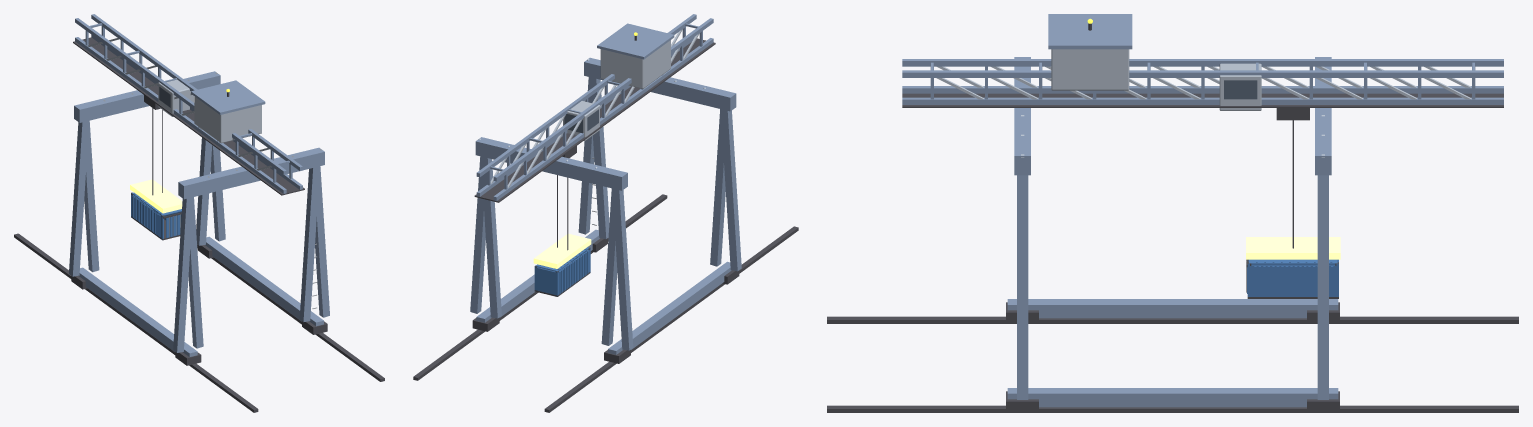
Rendered from bt-d2-crane.glb.
The picture shows the model from 3 angles, left to right: view 1: azimuth 30°, elevation 25°; view 2: azimuth 150°, elevation 25°; view 3: azimuth 270°, elevation 25°; orthographic projection. The views are drawn at different scales.
Visible parts, largest first — view 1: bt-d2-crane_portal1, bt-d2-crane_walkway, bt-d2-crane_house, bt-d2-crane_sill-1, bt-d2-crane_sill1, bt-d2-crane_portal-1, bt-d2-crane_legA-11, bt-d2-crane_legA-1-1, bt-d2-crane_legA11, bt-d2-crane_houseroof, bt-d2-crane_legB11, bt-d2-crane_legB-1-1 (+11 smaller); view 2: bt-d2-crane_portal-1, bt-d2-crane_house, bt-d2-crane_sill-1, bt-d2-crane_walkway, bt-d2-crane_legA-1-1, bt-d2-crane_legA-11, bt-d2-crane_portal1, bt-d2-crane_houseroof, bt-d2-crane_legA1-1, bt-d2-crane_legB-11, bt-d2-crane_legB-1-1, bt-d2-crane_chordB-1 (+12 smaller); view 3: bt-d2-crane_sill-1, bt-d2-crane_sill1, bt-d2-crane_rail1, bt-d2-crane_rail-1, bt-d2-crane_chordB1, bt-d2-crane_walkway, bt-d2-crane_chordT1, bt-d2-crane_chordT-1, bt-d2-crane_chordB-1, bt-d2-crane_house, bt-d2-crane_houseroof, bt-d2-crane_legB1-1 (+7 smaller).
Boxes of the visible parts, x1,y1,x2,y2 form: bt-d2-crane_portal1: (178,147,324,199); bt-d2-crane_walkway: (73,37,304,195); bt-d2-crane_house: (194,96,261,143); bt-d2-crane_sill-1: (78,267,197,357); bt-d2-crane_sill1: (205,236,323,326); bt-d2-crane_portal-1: (74,71,220,122); bt-d2-crane_legA-11: (173,197,193,352); bt-d2-crane_legA-1-1: (69,121,89,276); bt-d2-crane_legA11: (299,166,319,322); bt-d2-crane_houseroof: (191,80,265,114); bt-d2-crane_legB11: (313,166,329,317); bt-d2-crane_legB-1-1: (83,120,99,272); bt-d2-crane_portal-1: (475,137,627,190); bt-d2-crane_house: (600,40,670,88); bt-d2-crane_sill-1: (608,261,731,354); bt-d2-crane_walkway: (474,38,715,202); bt-d2-crane_legA-1-1: (612,188,633,350); bt-d2-crane_legA-11: (721,110,741,271); bt-d2-crane_portal1: (584,57,736,111); bt-d2-crane_houseroof: (597,23,674,59); bt-d2-crane_legA1-1: (480,156,501,318); bt-d2-crane_legB-11: (710,109,726,266); bt-d2-crane_legB-1-1: (601,188,618,345); bt-d2-crane_chordB-1: (493,38,713,200); bt-d2-crane_sill-1: (1007,299,1338,318); bt-d2-crane_sill1: (1007,388,1338,407); bt-d2-crane_rail1: (827,405,1518,412); bt-d2-crane_rail-1: (827,316,1518,323); bt-d2-crane_chordB1: (902,97,1503,104); bt-d2-crane_walkway: (902,93,1503,107); bt-d2-crane_chordT1: (902,70,1503,77); bt-d2-crane_chordT-1: (902,59,1503,66); bt-d2-crane_chordB-1: (902,86,1503,93); bt-d2-crane_house: (1051,49,1129,90); bt-d2-crane_houseroof: (1048,14,1132,49); bt-d2-crane_legB1-1: (1317,175,1328,399).
Size of the model in its own units: 16.95 by 25.55 by 46.
